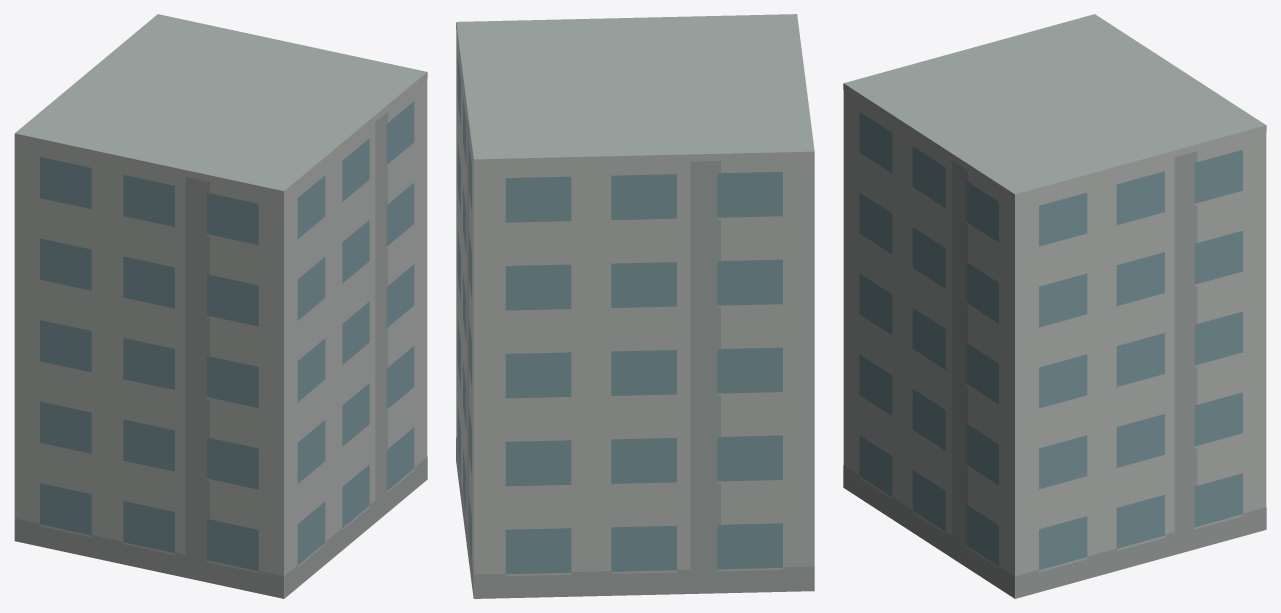
The model's file is residential-52a8a2c0-5230-4d8f-93d2-ae29d71be702.glb.
3 views of the same model, side by side, from view 1: azimuth 30°, elevation 25°; view 2: azimuth 150°, elevation 25°; view 3: azimuth 270°, elevation 25° (orthographic). The views are drawn at different scales.
Parts seen in each view (by area): view 1: residential-52a8a2c0-5230-4d8f-93d2-ae29d71be702.tmp; view 2: residential-52a8a2c0-5230-4d8f-93d2-ae29d71be702.tmp; view 3: residential-52a8a2c0-5230-4d8f-93d2-ae29d71be702.tmp.
Part boxes in pixels (<box>): residential-52a8a2c0-5230-4d8f-93d2-ae29d71be702.tmp: <box>14,14,427,598</box>; residential-52a8a2c0-5230-4d8f-93d2-ae29d71be702.tmp: <box>456,14,814,598</box>; residential-52a8a2c0-5230-4d8f-93d2-ae29d71be702.tmp: <box>843,14,1266,598</box>.
Bounding box in the file's own units: 14.02 × 14.65 × 13.89.
